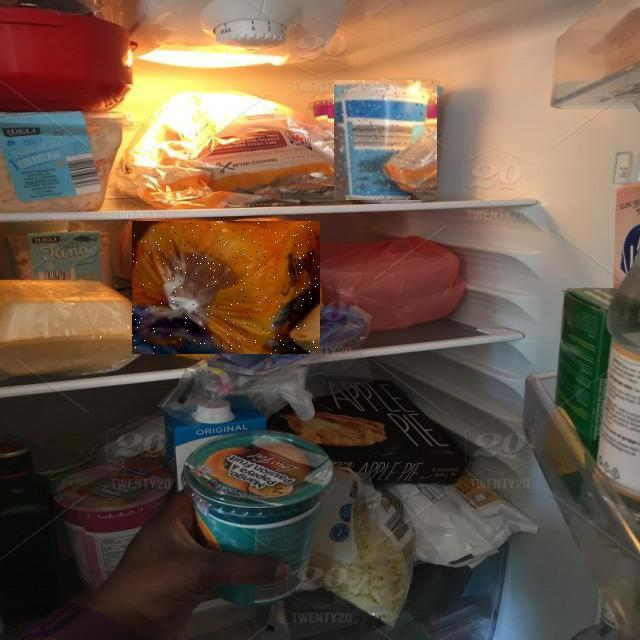Bread: (132, 221, 320, 354)
Yoghurt: (334, 81, 437, 201)
